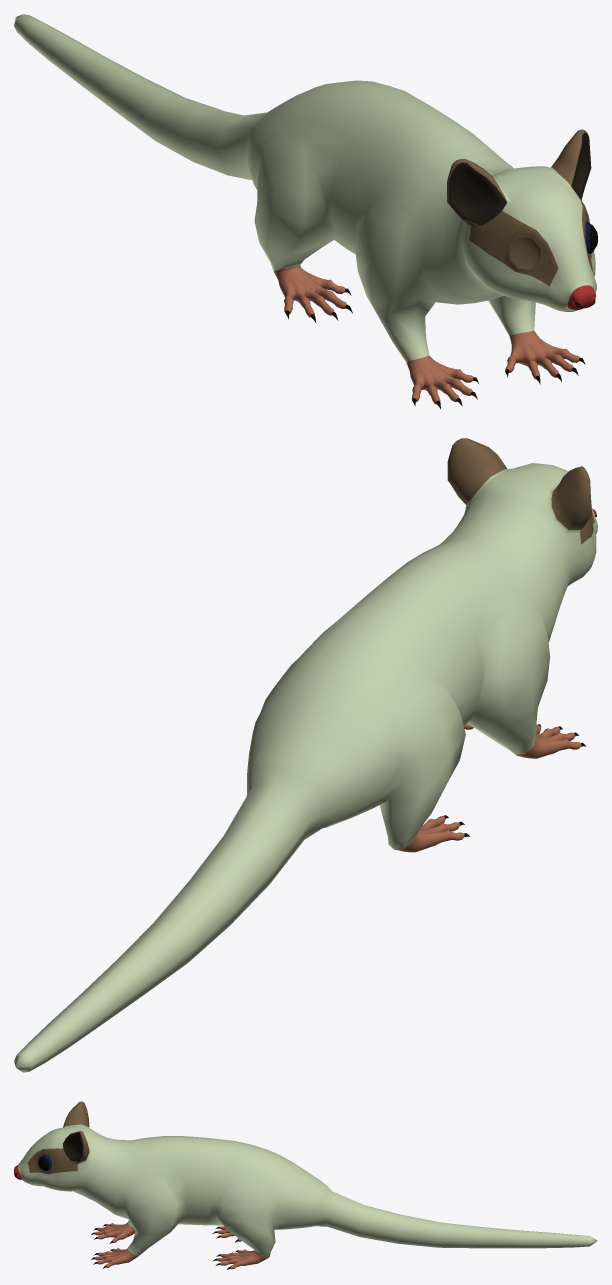
Rendered from sugar_glider.obj.
3 views of the same model, one above another, from view 1: azimuth 30°, elevation 25°; view 2: azimuth 150°, elevation 25°; view 3: azimuth 270°, elevation 25° (orthographic). The views are drawn at different scales.
Parts seen in each view (by area): view 1: sugar_glider; view 2: sugar_glider; view 3: sugar_glider.
Boxes of the visible parts, x1,y1,x2,y2 form: sugar_glider: (14, 14, 596, 409); sugar_glider: (14, 438, 597, 1072); sugar_glider: (14, 1101, 597, 1269).
Bounding box in the file's own units: 0.0566 × 0.0768 × 0.3091.
